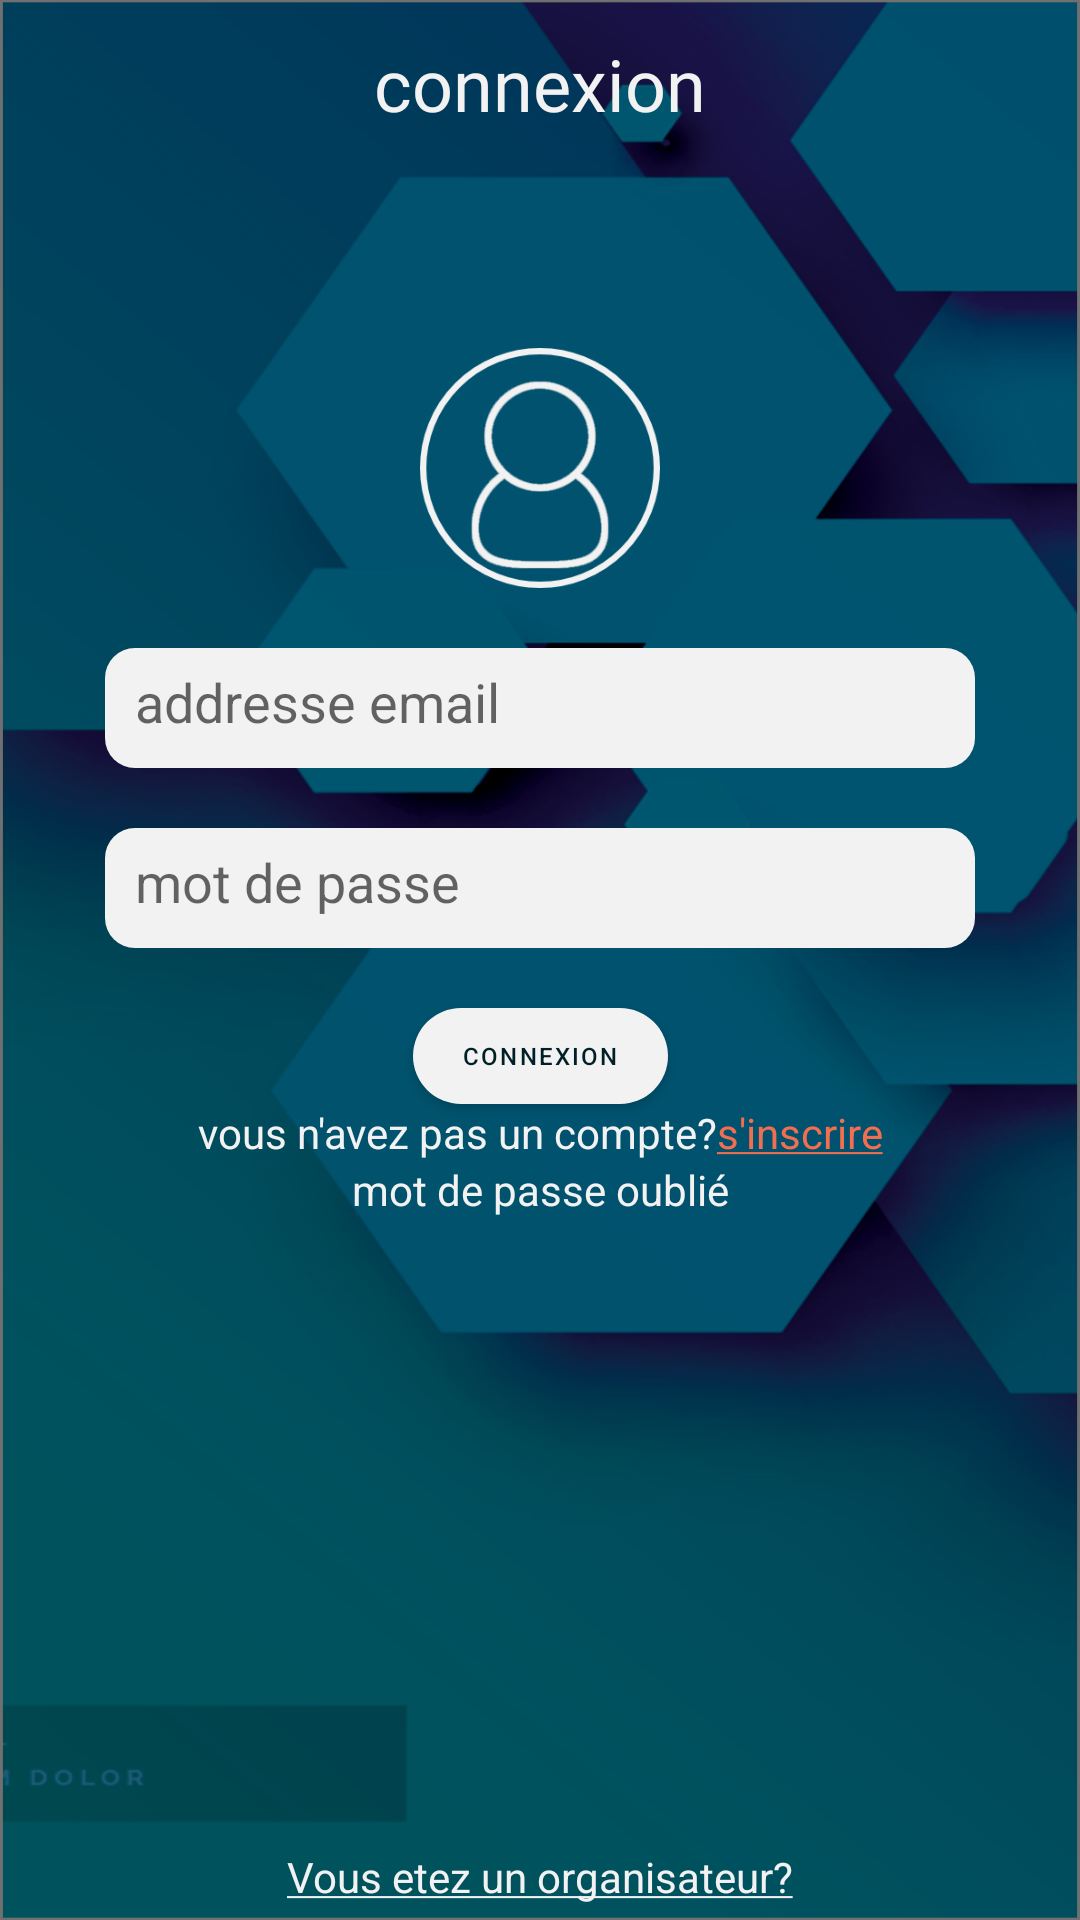

Named icons in this screenshot (1080×1920) and their bounding boxes, bbox(x1, y1, x2, y2):
person: bbox(420, 348, 660, 588)
